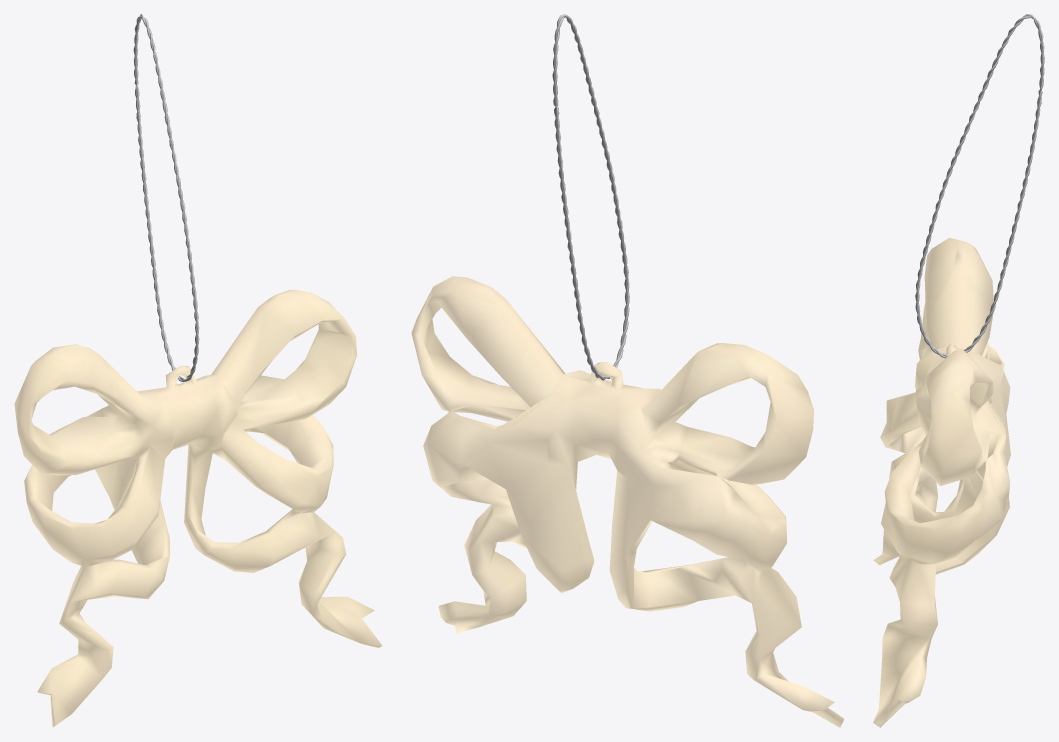
The model's file is Gold_Ribbon.glb.
3 views of the same model, side by side, from view 1: azimuth 30°, elevation 25°; view 2: azimuth 150°, elevation 25°; view 3: azimuth 270°, elevation 25° (orthographic). The views are drawn at different scales.
Parts seen in each view (by area): view 1: Mesh1.0, GN Instance; view 2: Mesh1.0, GN Instance; view 3: Mesh1.0, GN Instance.
Boxes of the visible parts, box(x1,y1,x2,y2) form: Mesh1.0: box(14, 289, 382, 727); GN Instance: box(133, 14, 199, 382); Mesh1.0: box(411, 276, 844, 727); GN Instance: box(552, 14, 629, 380); Mesh1.0: box(873, 237, 1010, 727); GN Instance: box(915, 14, 1044, 358).
Size of the model in its own units: 0.0826 by 0.1448 by 0.0357.
2 materials, 1 textured.
